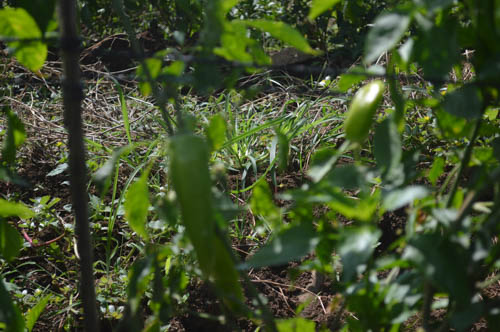ChiliPepper: (172, 136, 246, 311), (343, 82, 388, 147)
